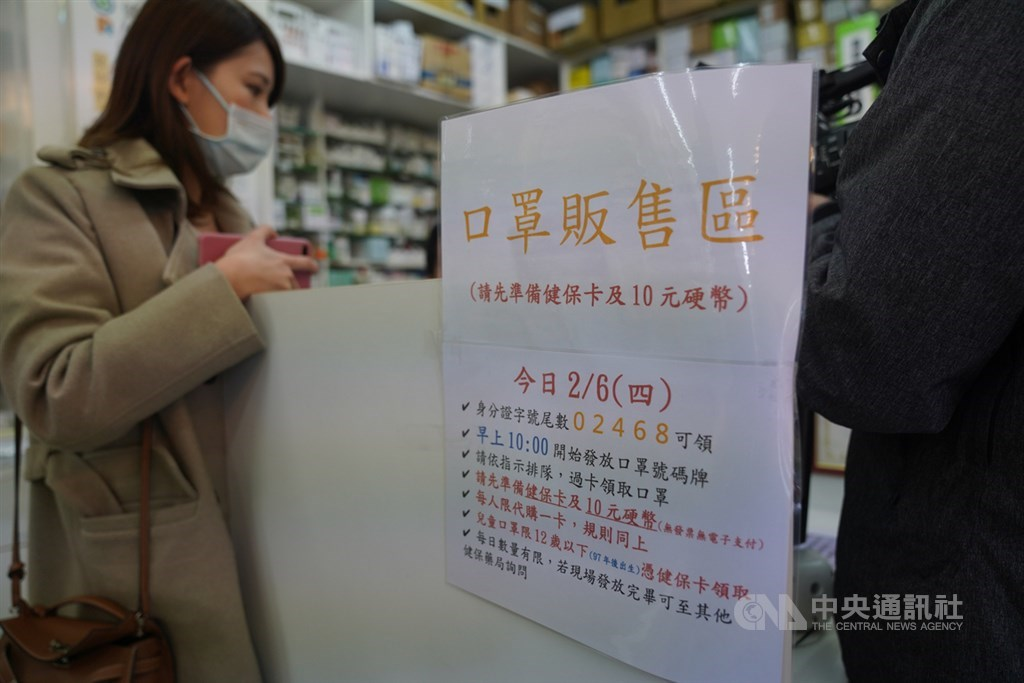Mask: (191, 31, 279, 188)
